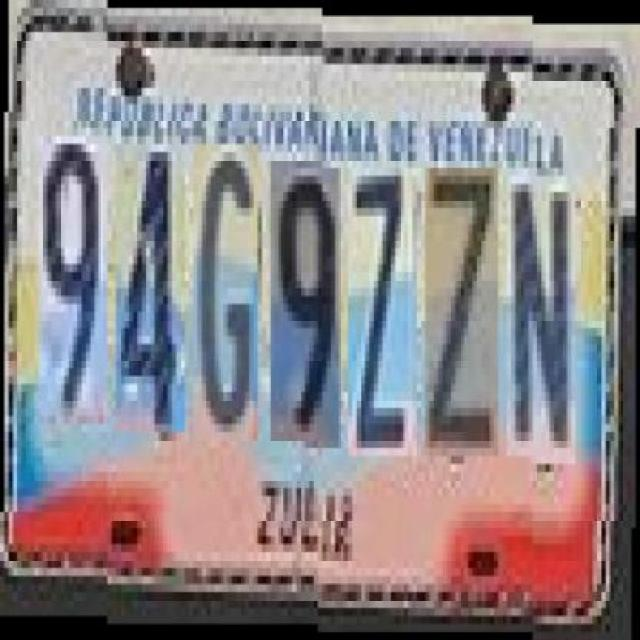4: (116, 144, 186, 431)
9: (38, 144, 108, 431), (270, 160, 339, 440)
g: (193, 144, 258, 441)
n: (507, 160, 575, 448)
z: (424, 160, 498, 448), (348, 160, 417, 448)
